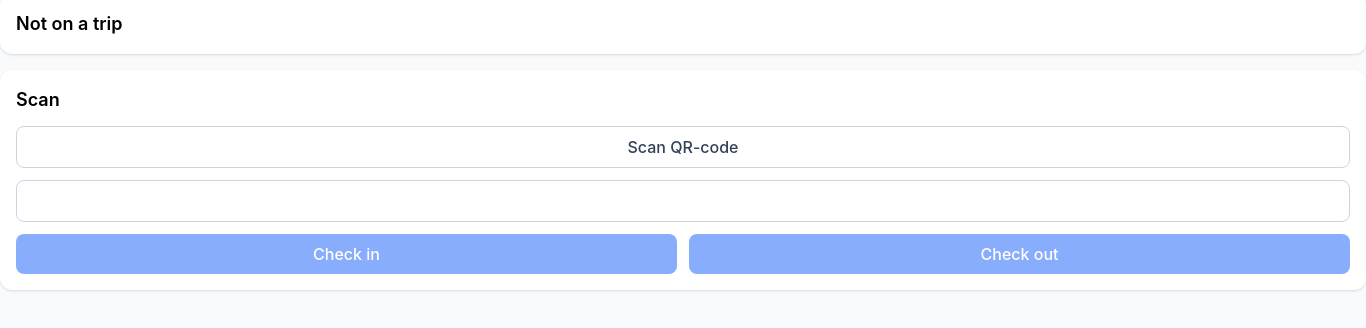
Test: shows error for invalid QR code
The image size is (1366, 328).
In the field: (683, 201) top-left (16, 180), bottom-right (1350, 222), type "invalid-code"
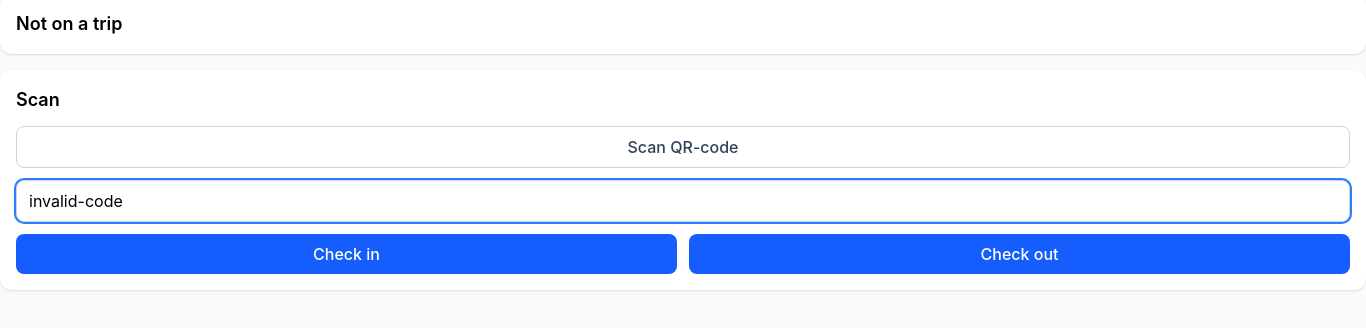
Click the button "Check in": (346, 254) top-left (16, 234), bottom-right (677, 274)
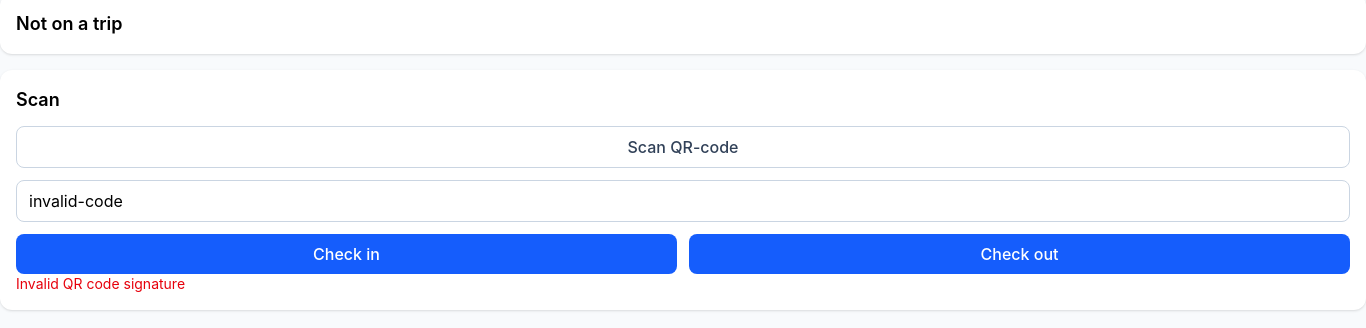
Check: the text "Invalid QR code signature" is shown, box top-left (16, 275), bottom-right (185, 292)
